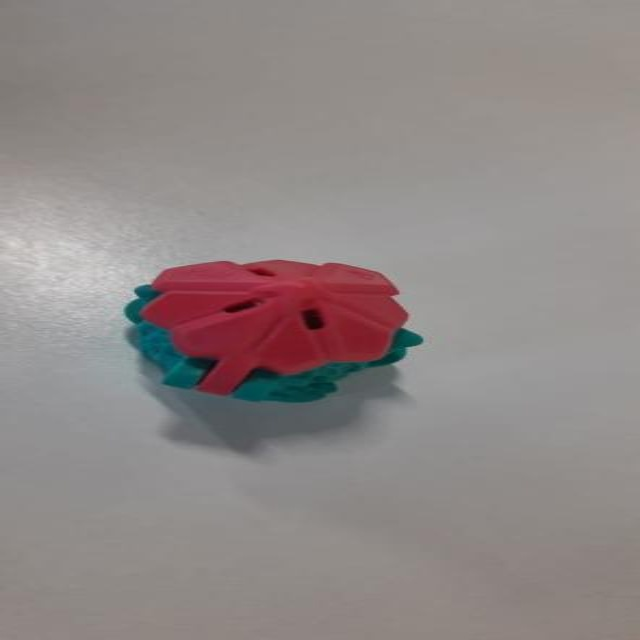House: (110, 248, 424, 412)
